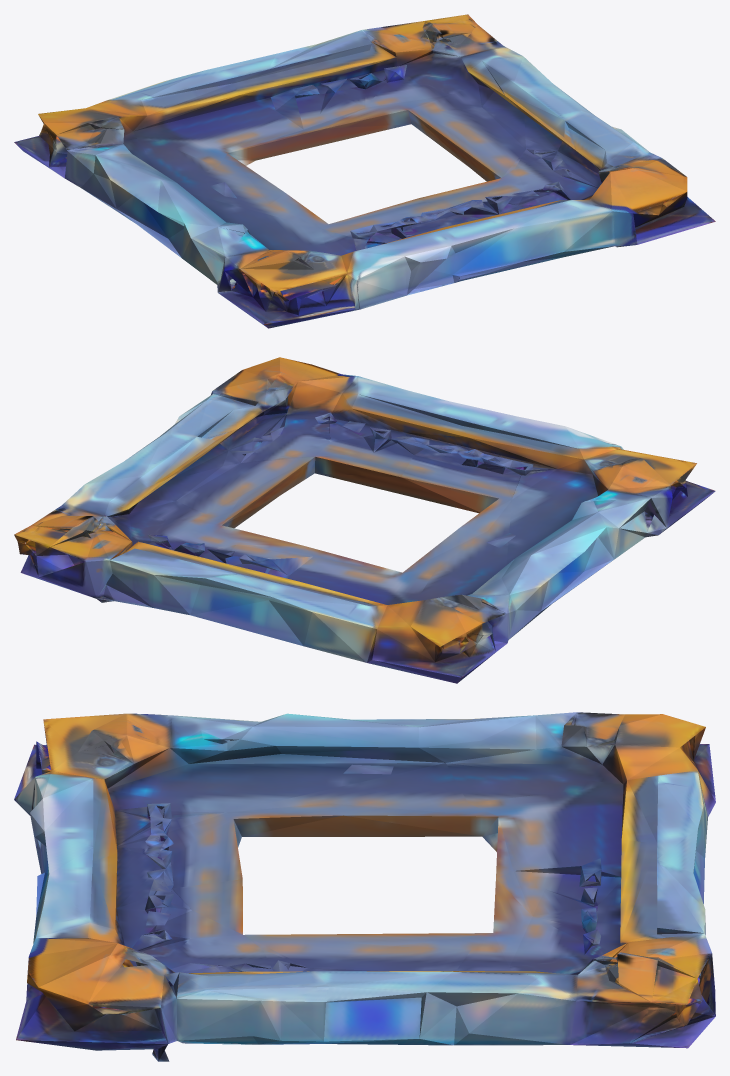
Rendered from Arena.fbx.
3 renders of one model, top to bottom at view 1: azimuth 30°, elevation 25°; view 2: azimuth 150°, elevation 25°; view 3: azimuth 270°, elevation 25°, orthographic. The views are drawn at different scales.
Parts seen in each view (by area): view 1: temp; view 2: temp; view 3: temp.
Boxes of the visible parts, <box> form: temp: <box>14,14,715,328</box>; temp: <box>14,357,715,683</box>; temp: <box>14,712,715,1061</box>.
Bounding box in the file's own units: 200 × 24.4 × 199.
1 material, 1 textured.
